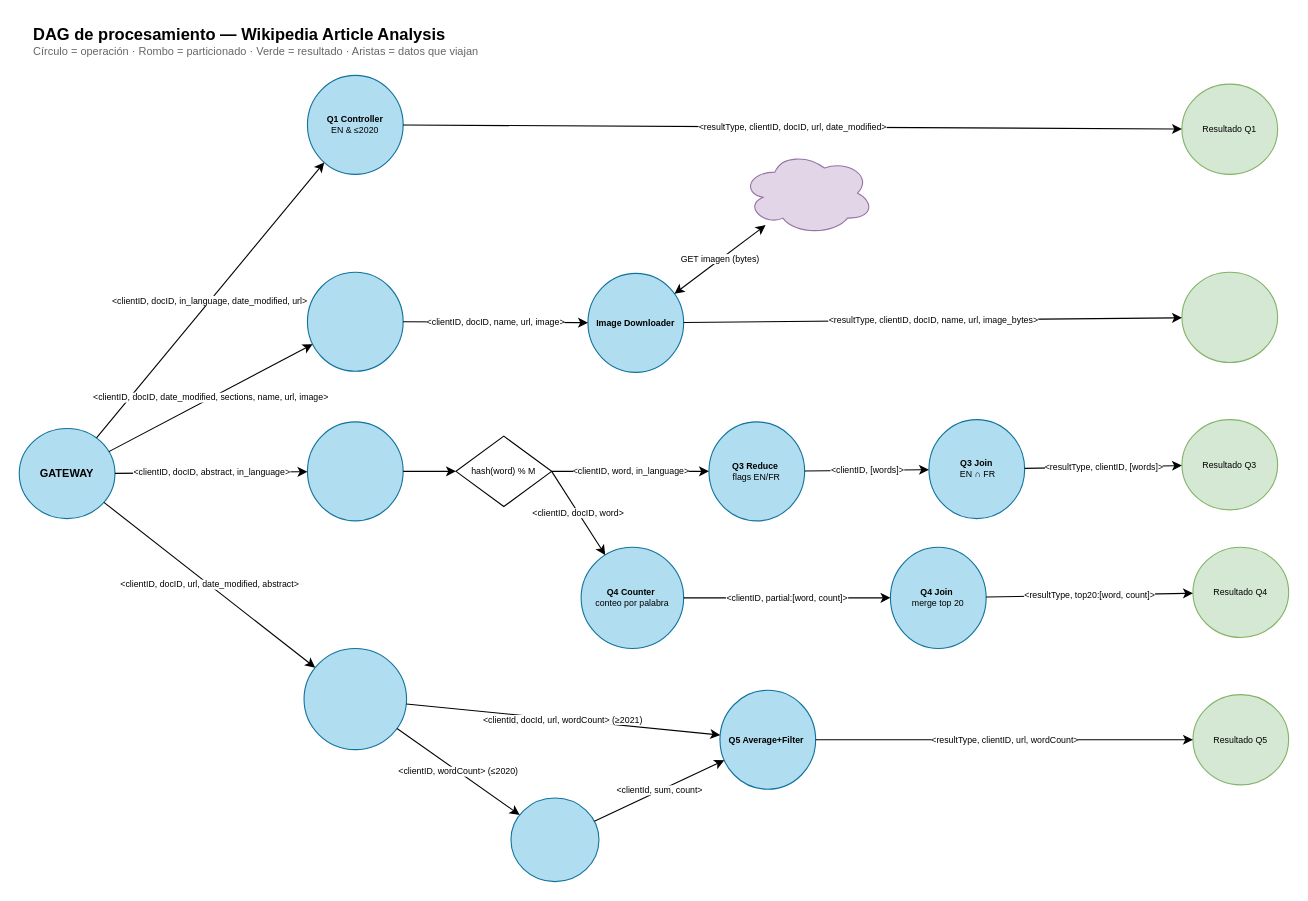
Some shapes in this 1308 by 901 pixel diagram are drawn without their labels. The shapes that lost their labels are listed below. From the top down, each one's box as (x1, y1, x2, y2) in pixels, then its label:
(741, 150, 874, 235): Wikimedia Commons
(306, 271, 403, 371): Q2_Filter ≤2020 & contiene Biographie/Biography
(1181, 271, 1278, 362): Resultado Q2
(306, 421, 403, 521): Tokenizer
(303, 647, 407, 750): Q5 Counter wordCount (map)
(510, 797, 599, 882): Q5 Accumulator sum/count parcial
